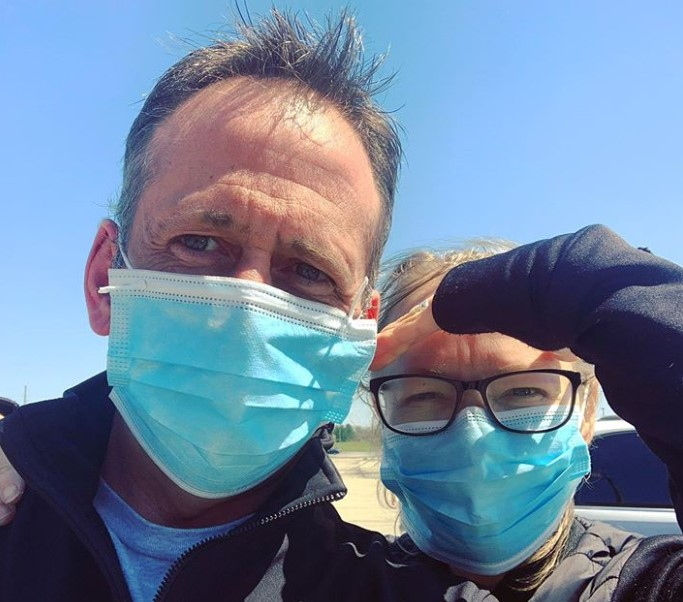face_with_mask: (78, 64, 397, 503), (364, 256, 604, 576)
